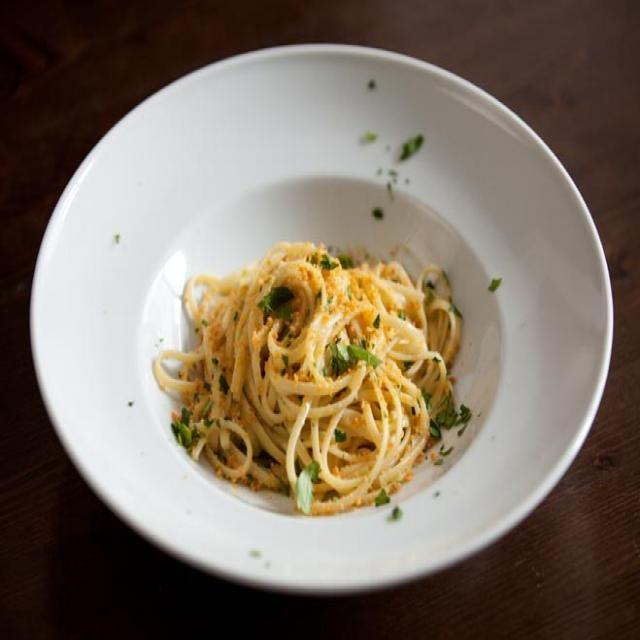Oil pasta: (147, 223, 549, 503)
